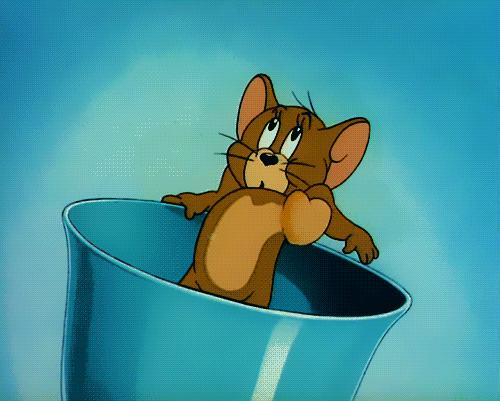jerry: (160, 73, 381, 310)
